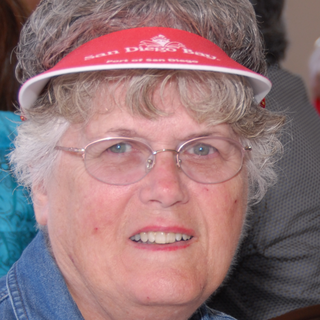eye: (98, 135, 140, 158), (180, 138, 221, 160)
